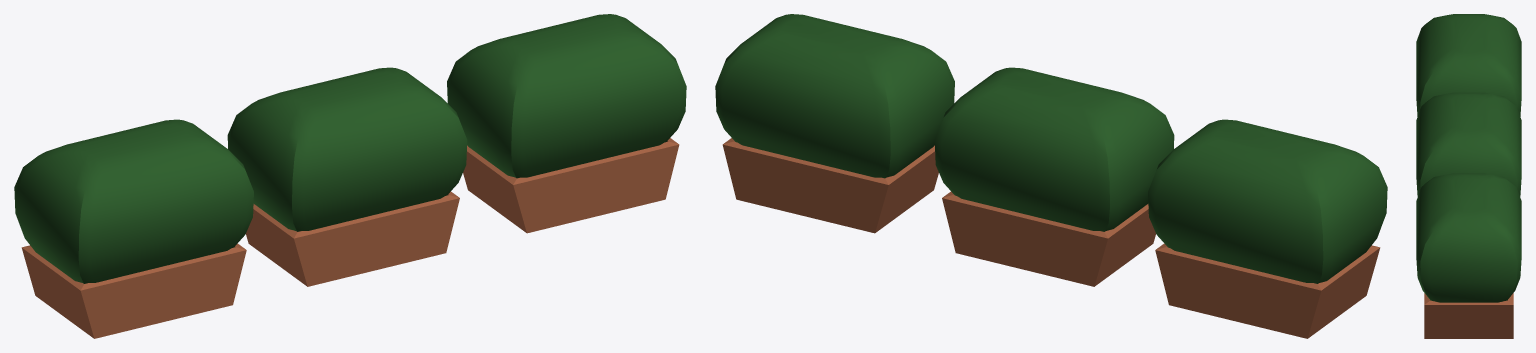
The model's file is object_B3_Plants_003.glb.
The picture shows the model from 3 angles, left to right: view 1: azimuth 30°, elevation 25°; view 2: azimuth 150°, elevation 25°; view 3: azimuth 270°, elevation 25°; orthographic projection. The views are drawn at different scales.
Visible parts, largest first — view 1: B3 Plants.003; view 2: B3 Plants.003; view 3: B3 Plants.003.
Boxes of the visible parts, x1,y1,x2,y2 form: B3 Plants.003: (14,14,686,338); B3 Plants.003: (715,14,1387,338); B3 Plants.003: (1416,14,1521,338).
Size of the model in its own units: 1.47 by 0.3635 by 0.2896.
